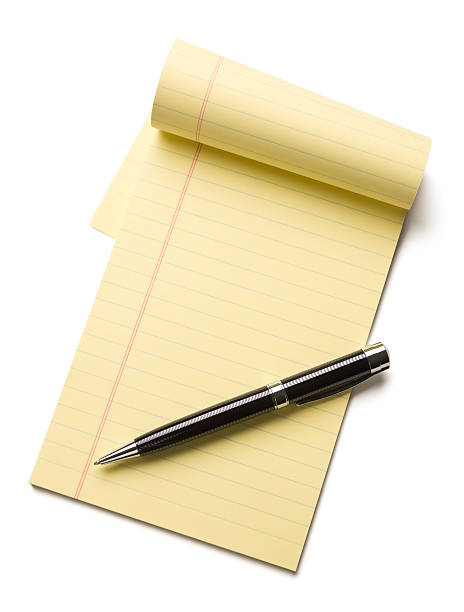pen: (92, 339, 412, 487)
